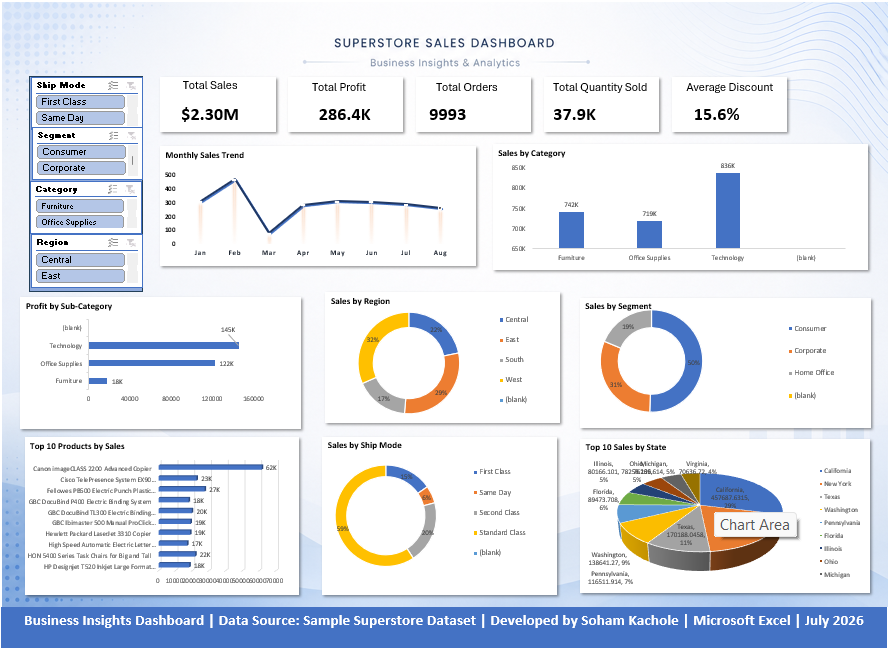

Layout of this report page (visuals, bound fields, positions):
{"tool":"powerbi","page":{"name":"Page 1","canvas":[1280,720],"ordinal":0},"visuals":[{"type":"card","title":"Total Sales","fields":{"Values":["Sum(Table1.Sales)"]},"box":[13.3,96.5,154.4,89.3],"z":0},{"type":"card","title":"Total Profit","fields":{"Values":["Sum(Table1.Profit)"]},"box":[184.6,96.5,154.4,89.3],"z":1000},{"type":"card","title":"Total Quantity","fields":{"Values":["Sum(Table1.Quantity)"]},"box":[527.2,96.5,154.4,89.3],"z":2000},{"type":"card","title":"Total Orders","fields":{"Values":["CountNonNull(Table1.Order ID)"]},"box":[354.7,96.5,154.4,89.3],"z":3000},{"type":"card","title":"Average Discount","fields":{"Values":["Avg(Table1.Discount)"]},"box":[700.9,96.5,154.4,89.3],"z":4000},{"type":"lineChart","title":"Monthly Sales Trend","fields":{"Y":["Sum(Table1.Sales)"],"Category":["Table1.Order Date"]},"box":[13.3,203.9,581.5,142.4],"z":5000},{"type":"columnChart","title":" Sales by Category","fields":{"Category":["Table1.Category"],"Y":["Sum(Table1.Sales)"]},"box":[629.8,203.9,559.8,142.4],"z":6000},{"type":"barChart","title":"Sales by Sub-Category","fields":{"Category":["Table1.Sub-Category"],"Y":["Sum(Table1.Sales)"]},"box":[13.3,368,581.5,156.8],"z":7000},{"type":"donutChart","title":"Sales by Region","fields":{"Y":["Sum(Table1.Sales)"],"Category":["Table1.Region"]},"box":[629.8,368,559.8,156.8],"z":8000},{"type":"donutChart","title":"Sales by Segment","fields":{"Category":["Table1.Segment"],"Y":["Sum(Table1.Sales)"]},"box":[13.3,545.3,580.3,155.6],"z":9000},{"type":"barChart","title":"Top 10 Products by Sales","fields":{"Category":["Table1.Product Name"],"Y":["Sum(Table1.Sales)"]},"box":[629.8,545.3,559.8,155.6],"z":10000},{"type":"slicer","title":"Region","fields":{"Values":["Table1.Region"]},"box":[1062.9,2.4,205.1,65.1],"z":11000},{"type":"slicer","fields":{"Values":["Table1.Order Date"]},"box":[570.6,0,259.4,67.6],"z":12000},{"type":"slicer","fields":{"Values":["Table1.Category"]},"box":[1064.1,76,203.9,65.1],"z":13000},{"type":"slicer","fields":{"Values":["Table1.Segment"]},"box":[838.5,2.4,213.5,65.1],"z":14000}]}

Visuals, with their boxes on the page's 1280x720 design canvas (x1, y1, x2, y2). These are canvas units, not pixel positions in the 891x649 screenshot, which may show the page scaled, cropped or inside an application window:
"Total Sales" card: (left=13, top=96, right=168, bottom=186)
"Total Profit" card: (left=185, top=96, right=339, bottom=186)
"Total Quantity" card: (left=527, top=96, right=682, bottom=186)
"Total Orders" card: (left=355, top=96, right=509, bottom=186)
"Average Discount" card: (left=701, top=96, right=855, bottom=186)
"Monthly Sales Trend" lineChart: (left=13, top=204, right=595, bottom=346)
" Sales by Category" columnChart: (left=630, top=204, right=1190, bottom=346)
"Sales by Sub-Category" barChart: (left=13, top=368, right=595, bottom=525)
"Sales by Region" donutChart: (left=630, top=368, right=1190, bottom=525)
"Sales by Segment" donutChart: (left=13, top=545, right=594, bottom=701)
"Top 10 Products by Sales" barChart: (left=630, top=545, right=1190, bottom=701)
"Region" slicer: (left=1063, top=2, right=1268, bottom=68)
slicer - Table1.Order Date: (left=571, top=0, right=830, bottom=68)
slicer - Table1.Category: (left=1064, top=76, right=1268, bottom=141)
slicer - Table1.Segment: (left=838, top=2, right=1052, bottom=68)
